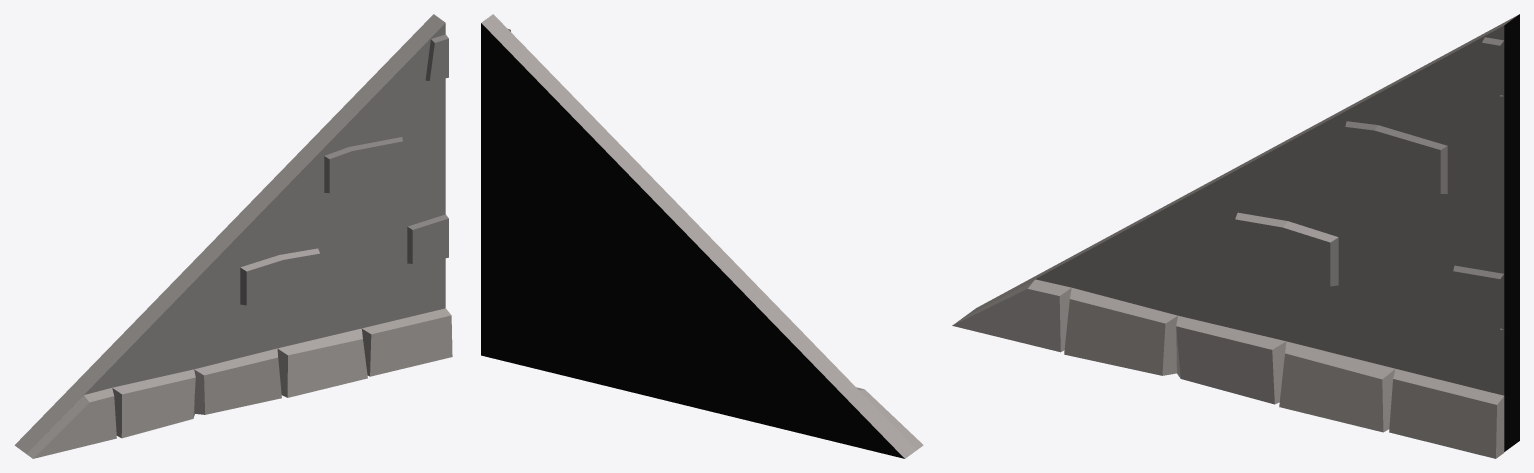
File: dungeon-wall-stairs-stone.glb
3 renders of one model, left to right at view 1: azimuth 30°, elevation 25°; view 2: azimuth 150°, elevation 25°; view 3: azimuth 330°, elevation 25°, orthographic. The views are drawn at different scales.
Visible parts, largest first — view 1: dungeon-wall-stairs-stone; view 2: dungeon-wall-stairs-stone; view 3: dungeon-wall-stairs-stone.
Boxes of the visible parts, x1,y1,x2,y2 form: dungeon-wall-stairs-stone: [14, 14, 452, 458]; dungeon-wall-stairs-stone: [481, 14, 923, 458]; dungeon-wall-stairs-stone: [952, 14, 1519, 458].
Size of the model in its own units: 4 by 3 by 0.3266.
1 material, 1 textured.
